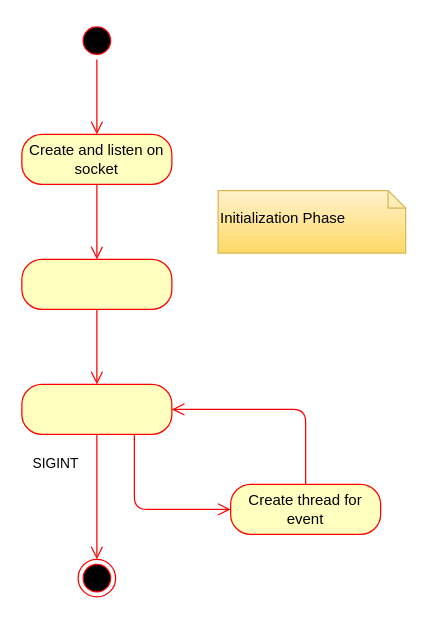
Image size: 428x619. Some labels were removed from this diagram. Each missing label, with the centre of its shape:
"Accept connection" belongs at point (96, 408).
"Create event listener and add socket" belongs at point (96, 283).
